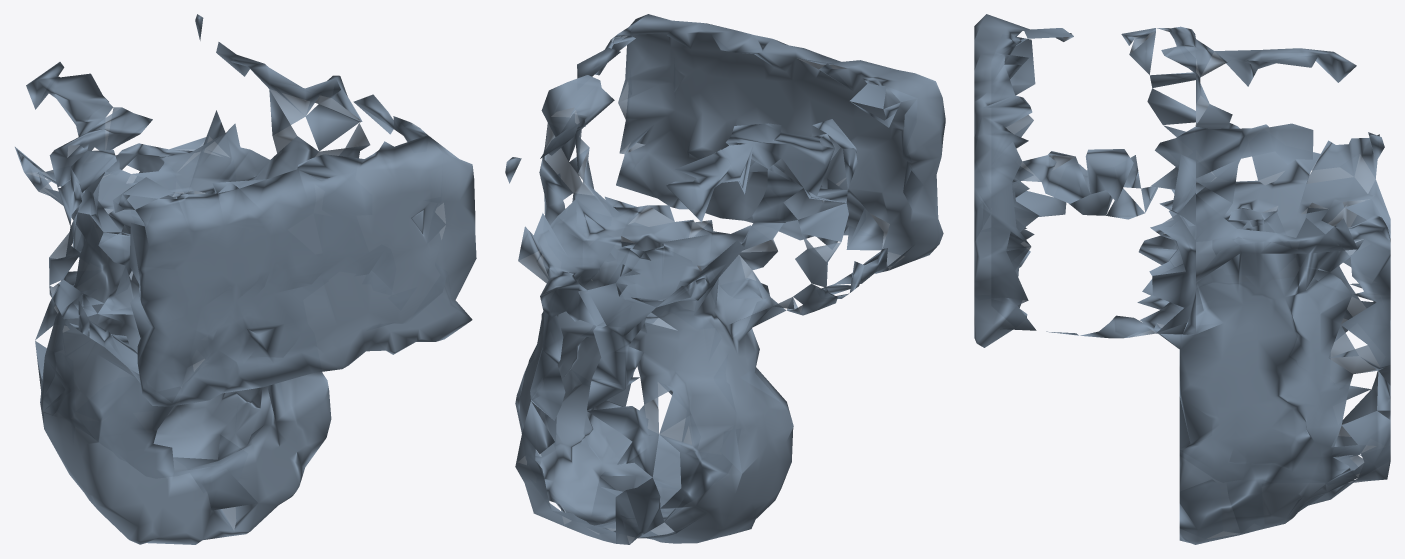
Rendered from toilet_0006_original.obj.
3 renders of one model, left to right at view 1: azimuth 30°, elevation 25°; view 2: azimuth 150°, elevation 25°; view 3: azimuth 270°, elevation 25°, orthographic. The views are drawn at different scales.
Bounding box in the file's own units: 1.13 × 1.41 × 1.24.
